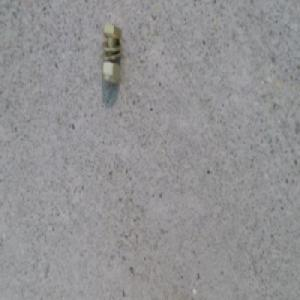BoltNutSet: (96, 20, 119, 85)
